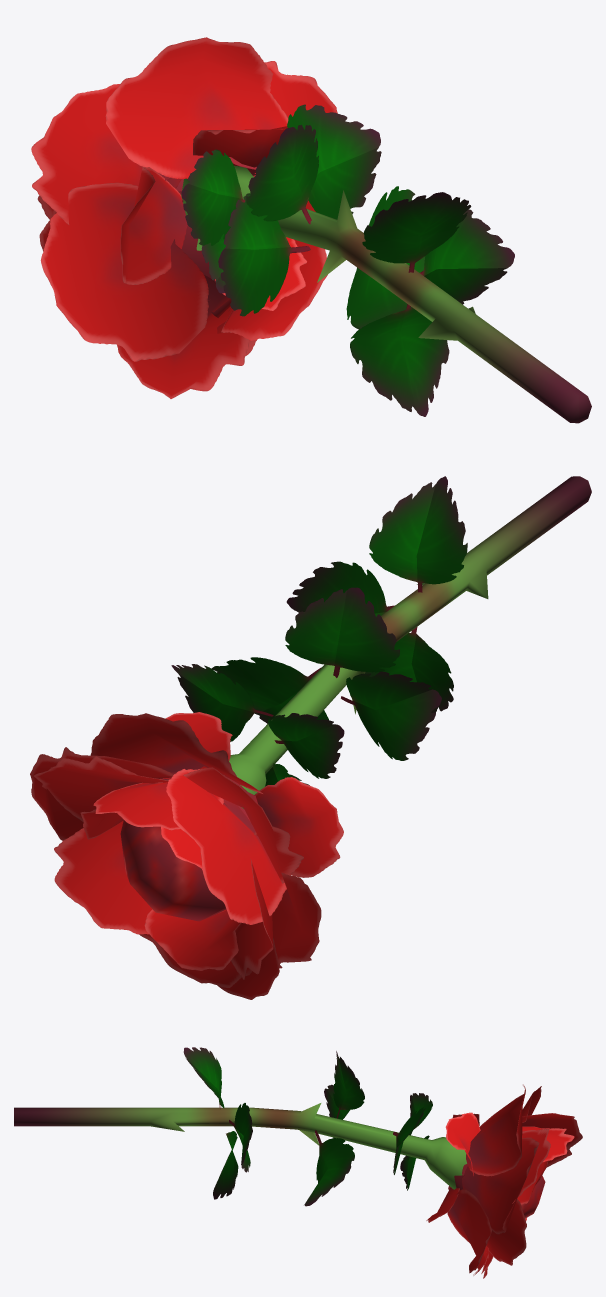
Rendered from SM_Rose_Red_WideOpen.fbx.
3 views of the same model, one above another, from view 1: azimuth 30°, elevation 25°; view 2: azimuth 150°, elevation 25°; view 3: azimuth 270°, elevation 25° (orthographic). The views are drawn at different scales.
Visible parts, largest first — view 1: Rose_Red_WideOpen; view 2: Rose_Red_WideOpen; view 3: Rose_Red_WideOpen.
Boxes of the visible parts, x1=… form: Rose_Red_WideOpen: x1=31, y1=37, x2=591, y2=423; Rose_Red_WideOpen: x1=30, y1=476, x2=591, y2=999; Rose_Red_WideOpen: x1=14, y1=1047, x2=582, y2=1278.
Size of the model in its own units: 52.56 by 59.81 by 130.
